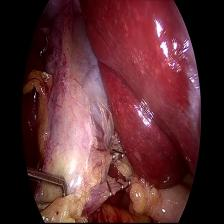Grasper: (23, 166, 68, 214)
